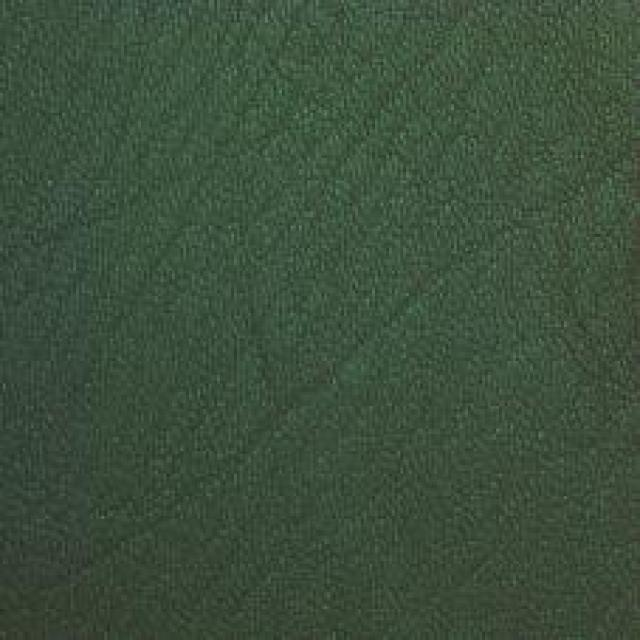Growth Marks: (77, 19, 521, 212), (150, 293, 524, 425)
